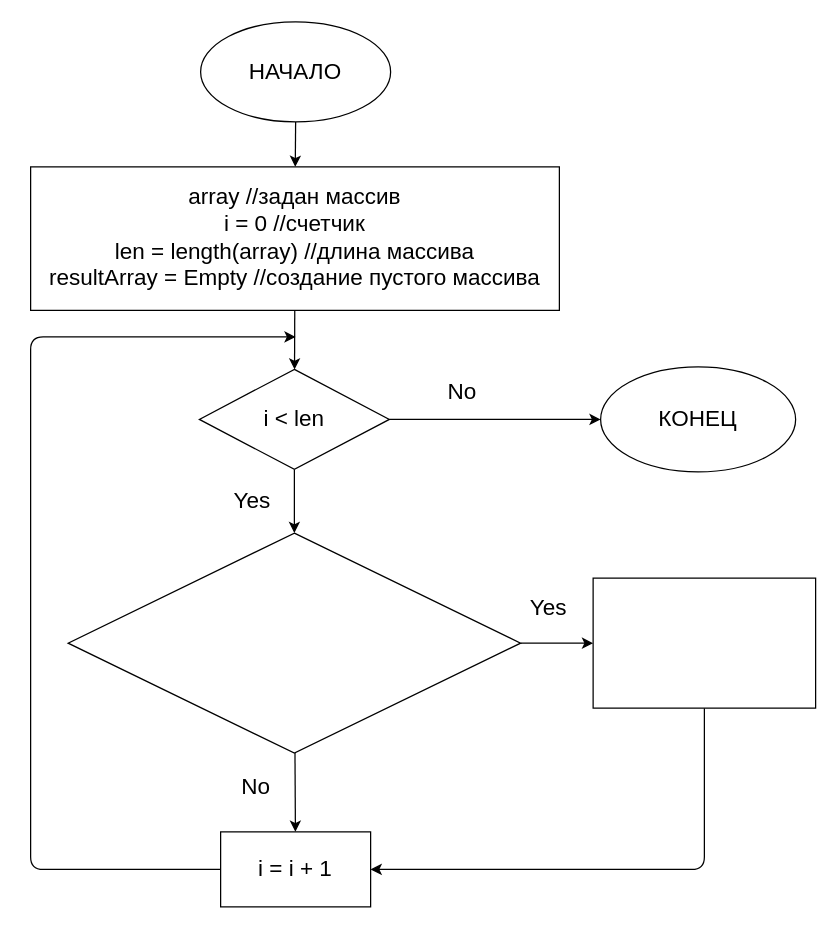
The diagram is 838 pixels wide and 929 high, and some of its shapes have lost their labels. Here are the shapes that lost their labels. From the top down, the centre of each, then its label:
At (x=294, y=642): "длина строки array[i] <= 3 символов".
At (x=704, y=642): "resultArray = resultArray + array[i] //записываем строку в массив".
